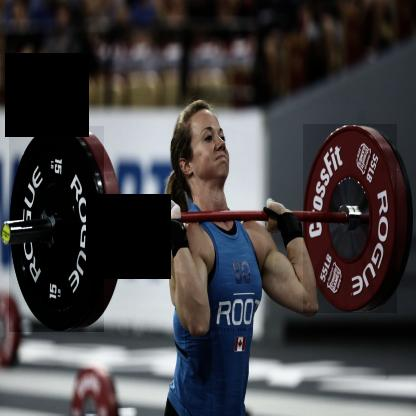barbell: (10, 127, 105, 333), (304, 125, 398, 314)
